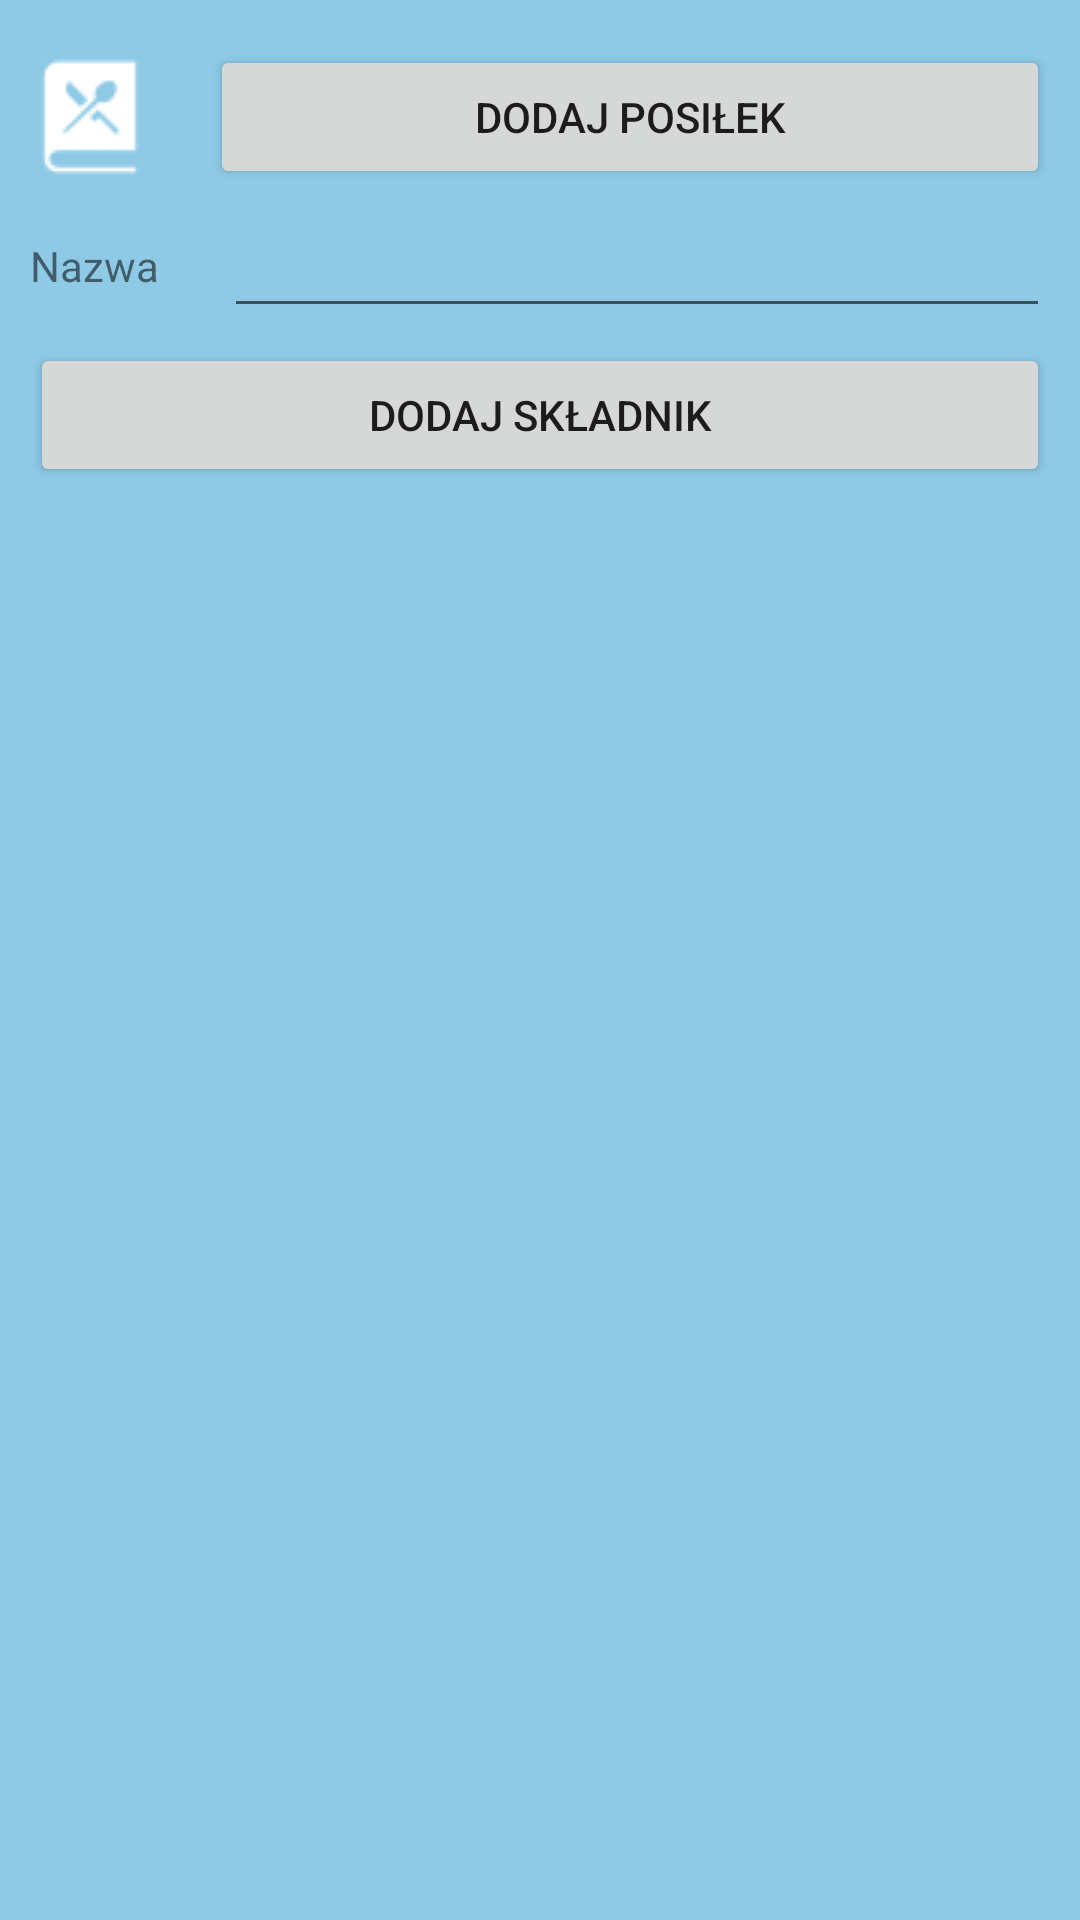

Screen size 1080px×1920px. Icon name, then its center in pixels as (x=x, y=y):
recipe: (x=90, y=117)
